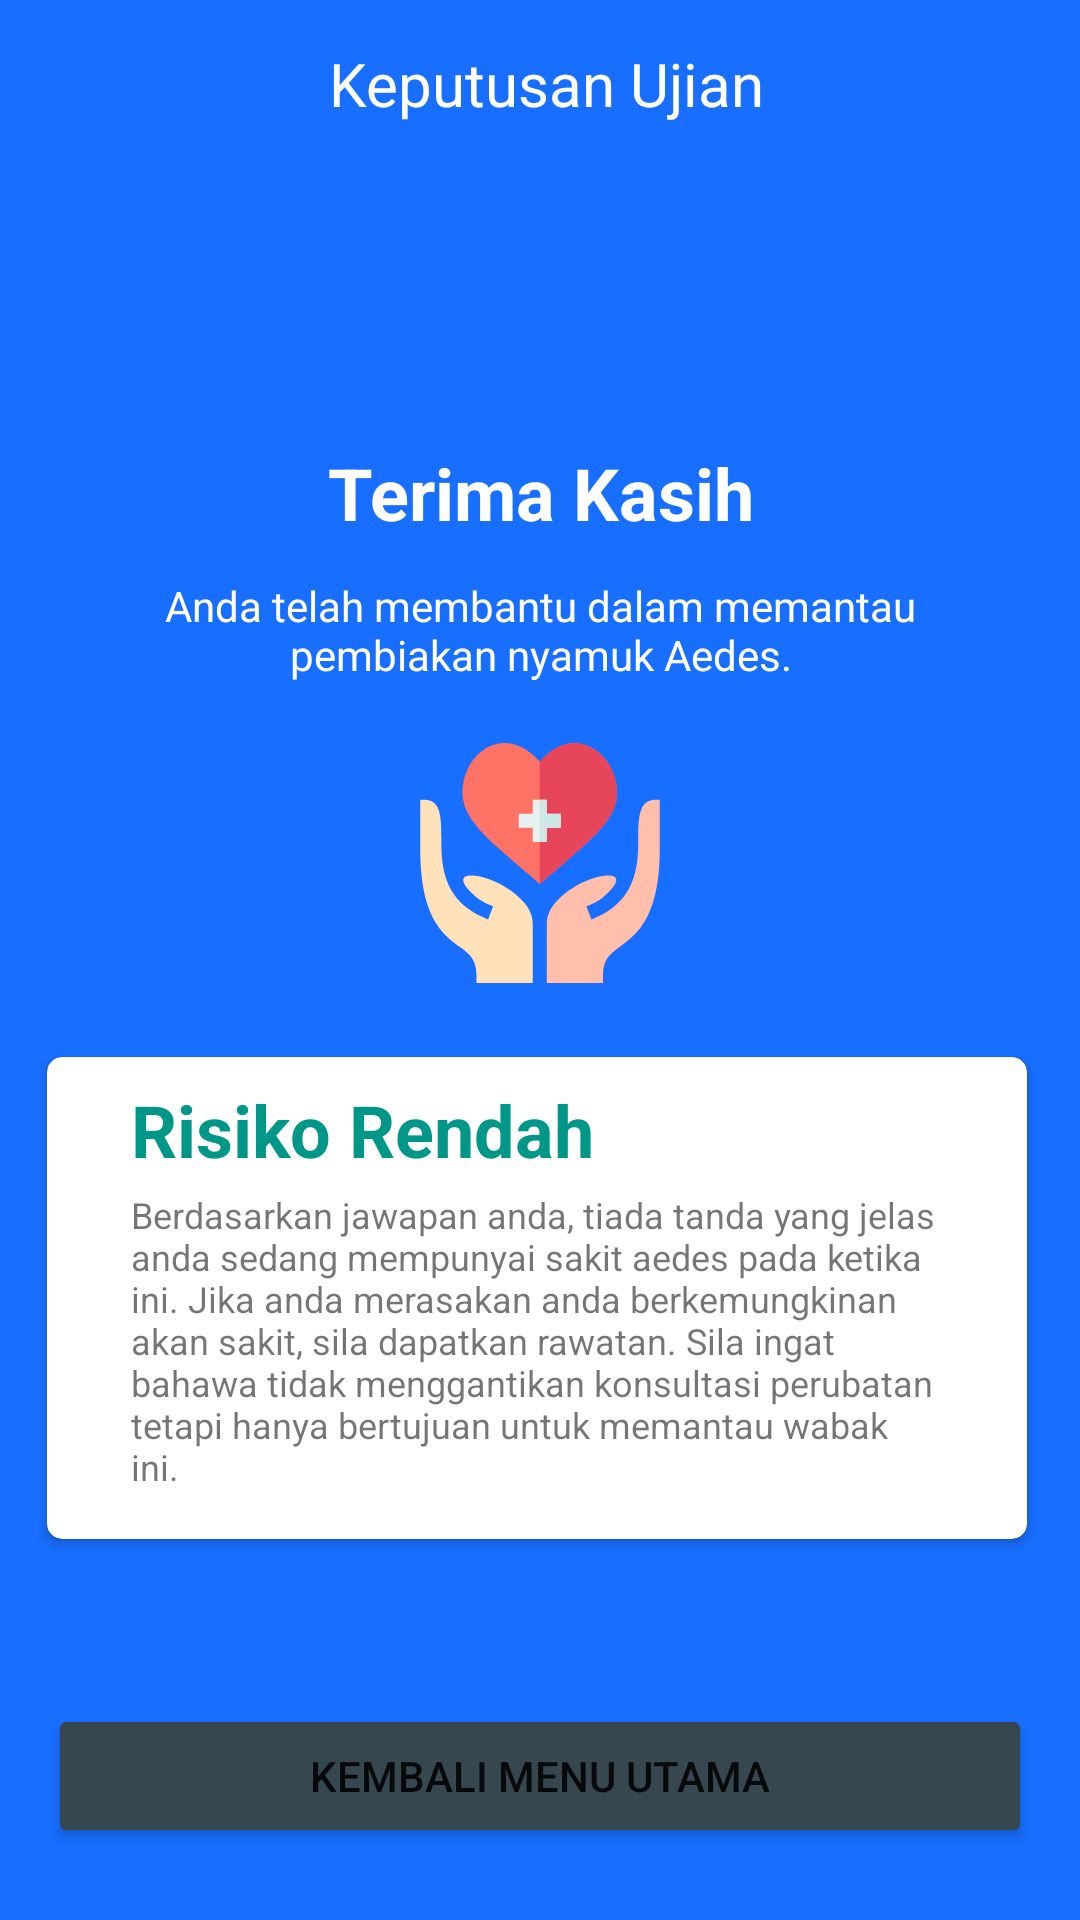

Where icons sit on this 1080×1920 app screen, as (x1, y1, x2, y2):
healthcare: (420, 743, 660, 983)
